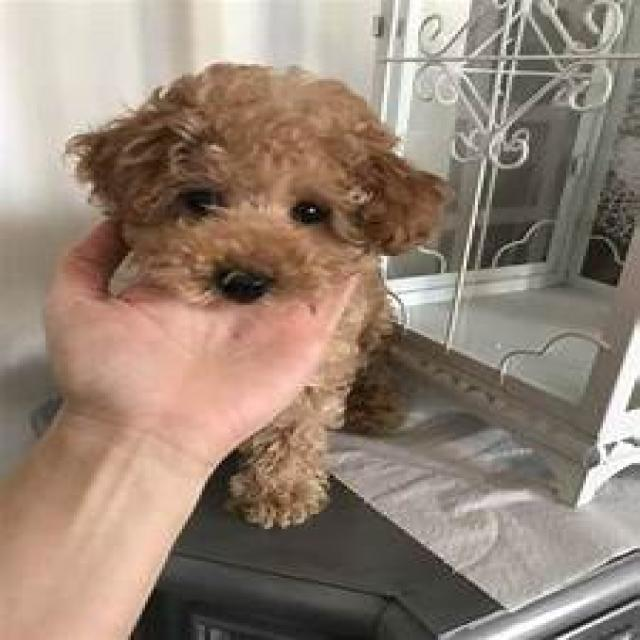animal: (31, 58, 455, 529)
